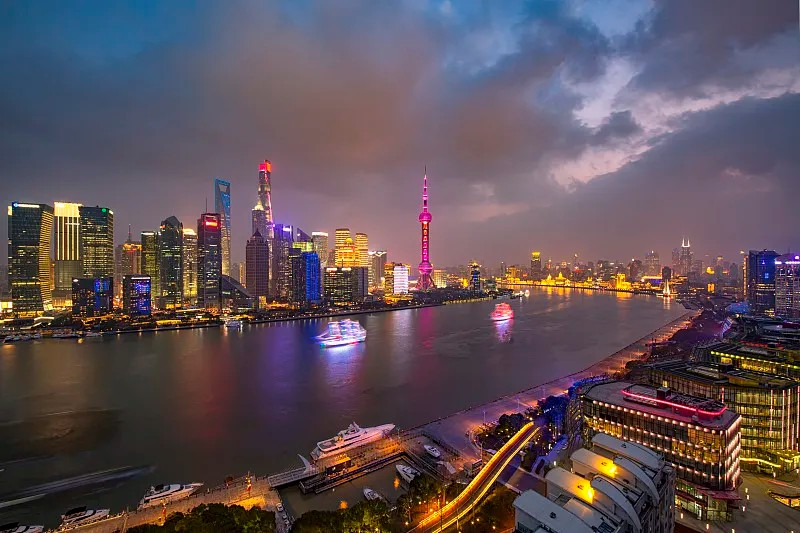Oriental: (415, 165, 436, 289)
